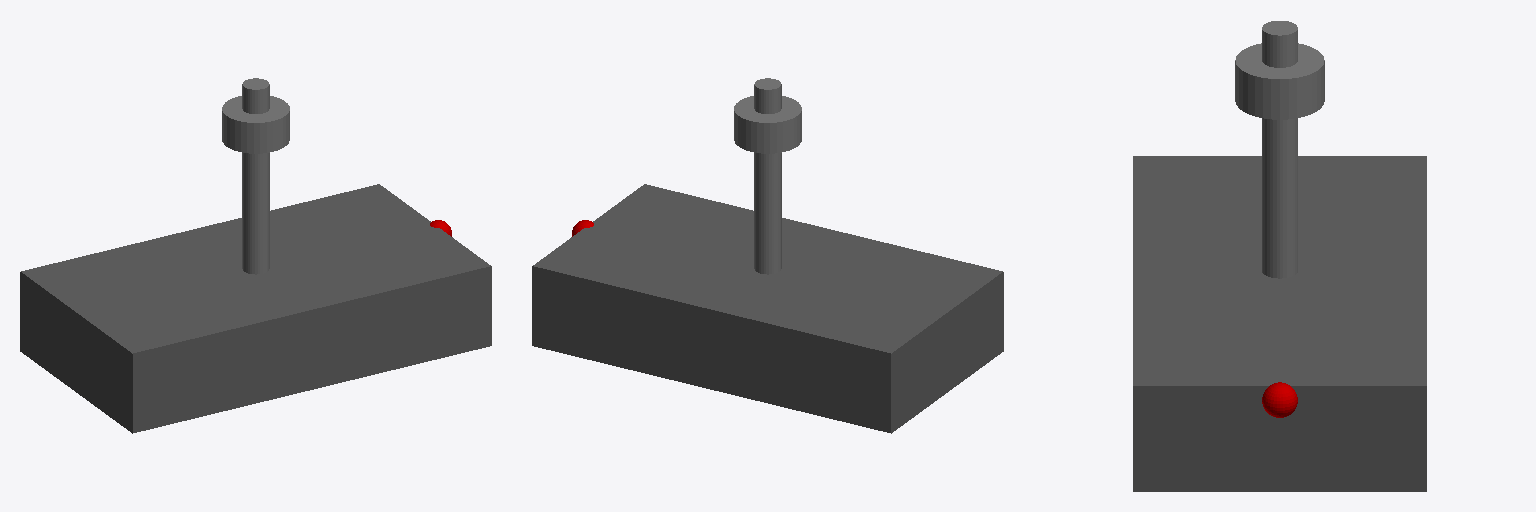
URDF robot description (heijn):
<?xml version="1.0"?>
<robot name="heijn">
  <!--colors-->
  <material name="blue">
      <color rgba="0 0 0.8 1"/>
  </material>
  <material name="red">
      <color rgba="0.8 0 0.0 1"/>
  </material>
  <material name="transparent_red">
      <color rgba="0.8 0 0.0 0.2"/>
  </material>
  <material name="darkgrey">
      <color rgba="0.502 0.502 0.502 1.0"/>
  </material>
  <material name="lightgrey">
      <color rgba="0.402 0.402 0.402 0.9"/>
  </material>
  <!--links-->
  <link name="world"/>
  <link name="base_link_x">
    <inertial>
      <mass value="1.0"/>
      <origin rpy="0 0 0" xyz="0 0 0"/>
      <inertia ixx="1.0" ixy="0.0" ixz="0.0" iyy="1.0" iyz="0.0" izz="1.0"/>
    </inertial>
  </link>
  <link name="base_link_y">
    <inertial>
      <mass value="1.0"/>
      <origin rpy="0 0 0" xyz="0 0 0"/>
      <inertia ixx="1.0" ixy="0.0" ixz="0.0" iyy="1.0" iyz="0.0" izz="1.0"/>
    </inertial>
  </link>
  <link name="base_link">
    <inertial>
      <mass value="40.0"/>
      <origin rpy="0 0 0" xyz="0 0 0"/>
      <inertia ixx="1.0" ixy="0.0" ixz="0.0" iyy="1.0" iyz="0.0" izz="1.0"/>
    </inertial>
    <collision>
      <origin rpy="0.0 0 0" xyz="0 0 0"/>
      <geometry>
        <box size='0.61 0.33 0.13'/>
      </geometry>
    </collision>
    <visual>
      <origin rpy="0.0 0 0" xyz="0 0 0"/>
      <geometry>
        <box size='0.61 0.33 0.13'/>
      </geometry>
      <material name="lightgrey"/>
    </visual>
  </link>
  <link name="pole_link">
    <inertial>
      <mass value="1.0"/>
      <origin rpy="0 0 0" xyz="0 0 0"/>
      <inertia ixx="1.0" ixy="0.0" ixz="0.0" iyy="1.0" iyz="0.0" izz="1.0"/>
    </inertial>
    <collision>
      <origin rpy="0.0 0 0" xyz="0 0 0.1"/>
      <geometry>
          <cylinder length="0.33" radius="0.02"/>
      </geometry>
    </collision>
    <visual>
      <origin rpy="0.0 0 0" xyz="0 0 0.1"/>
      <geometry>
          <cylinder length="0.33" radius="0.02"/>
      </geometry>
      <material name="darkgrey"/>
    </visual>
  </link>
  <link name="platform_link">
    <inertial>
      <mass value="1.0"/>
      <origin rpy="0 0 0" xyz="0 0 0"/>
      <inertia ixx="1.0" ixy="0.0" ixz="0.0" iyy="1.0" iyz="0.0" izz="1.0"/>
    </inertial>
    <collision>
      <origin rpy="0.0 0 0" xyz="0 0 0"/>
      <geometry>
          <cylinder length="0.05" radius="0.05"/>
      </geometry>
    </collision>
    <visual>
      <origin rpy="0.0 0 0" xyz="0 0 0"/>
      <geometry>
          <cylinder length="0.05" radius="0.05"/>
      </geometry>
      <material name="darkgrey"/>
    </visual>
  </link>
  <link name="front_link">
    <inertial>
      <mass value="0.01"/>
      <origin rpy="0 0 0" xyz="0 0 0"/>
      <inertia ixx="1.0" ixy="0.0" ixz="0.0" iyy="1.0" iyz="0.0" izz="1.0"/>
    </inertial>
    <visual>
      <origin rpy="0.0 0 0" xyz="0 0 0"/>
      <geometry>
          <sphere radius="0.02"/>
      </geometry>
      <material name="red"/>
    </visual>
  </link>
  <link name="lidar_sensor_link">
    <inertial>
      <mass value="0.01"/>
      <origin rpy="0 0 0" xyz="0 0 0"/>
      <inertia ixx="1.0" ixy="0.0" ixz="0.0" iyy="1.0" iyz="0.0" izz="1.0"/>
    </inertial>
  </link>
  <!--joints-->
  <joint name="mobile_joint_x" type="prismatic">
    <safety_controller k_position="100.0" k_velocity="40.0" soft_lower_limit="-2.8973" soft_upper_limit="2.8973"/>
    <parent link="world"/>
    <child link="base_link_x"/>
    <origin rpy="0 0 0" xyz="0 0 0.05"/>
    <axis xyz="1 0 0"/>
    <limit effort="300" lower="-5" upper="5" velocity="2.1750"/>
  </joint>
  <joint name="mobile_joint_y" type="prismatic">
    <safety_controller k_position="100.0" k_velocity="40.0" soft_lower_limit="-2.8973" soft_upper_limit="2.8973"/>
    <parent link="base_link_x"/>
    <child link="base_link_y"/>
    <origin rpy="0 0 0" xyz="0 0 0"/>
    <axis xyz="0 1 0"/>
    <limit effort="300" lower="-5" upper="5" velocity="2.1750"/>
  </joint>
  <joint name="mobile_joint_theta" type="revolute">
    <parent link="base_link_y"/>
    <child link="base_link"/>
    <origin rpy="0 0 0" xyz="0 0 0"/>
    <axis xyz="0 0 1"/>
    <limit effort="300" lower="-5" upper="5" velocity="2.1750"/>
  </joint>
  <joint name="robot_pole_joint" type="fixed">
    <parent link="base_link"/>
    <child link="pole_link"/>
    <origin rpy="0 0 0" xyz="0 0 0.1"/>
  </joint>
  <joint name="platform_joint" type="fixed">
    <parent link="pole_link"/>
    <child link="platform_link"/>
    <origin rpy="0 0 0" xyz="0 0 0.2"/>
  </joint>
  <joint name="lidar_sensor_joint" type="fixed">
    <parent link="platform_link"/>
    <child link="lidar_sensor_link"/>
    <origin rpy="0 0 0" xyz="0 0 0.1"/>
  </joint>
  <joint name="front_link_joint" type='fixed'>
    <parent link="base_link"/>
    <child link="front_link"/>
    <origin rpy="0 0 0" xyz="0.31 0.0 0.05"/>
  </joint>  
</robot>

--- What the picture shows (computed from the rendered views, not written in the file) ---
3 views of the same robot in one strip: view 1: azimuth 30°, elevation 25°; view 2: azimuth 150°, elevation 25°; view 3: azimuth 270°, elevation 25° (orthographic).
Robot: heijn — 8 links, 7 joints (1 revolute, 2 prismatic, 4 fixed); root link world; default pose: all joints at 0.
Visible links, largest first — view 1: base_link, pole_link, platform_link; view 2: base_link, pole_link, platform_link; view 3: base_link, pole_link, platform_link, front_link.
Boxes of the visible links, x1,y1,x2,y2 form: base_link: (20,184,491,433); pole_link: (242,78,269,274); platform_link: (222,96,289,153); base_link: (532,184,1003,433); pole_link: (754,78,781,274); platform_link: (734,96,801,153); base_link: (1133,156,1426,491); pole_link: (1262,21,1297,278); platform_link: (1235,43,1324,119); front_link: (1262,382,1297,417).
Bounding box of the posed robot: 0.635 × 0.33 × 0.43 m (x, y, z).
Geometry: primitives only (box / cylinder / sphere), no mesh files.
